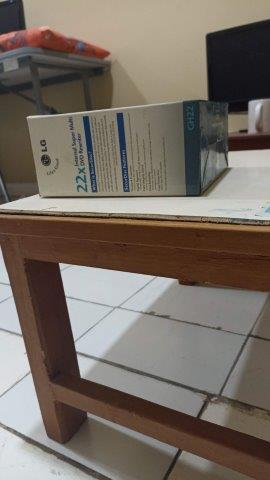kardus: (26, 100, 228, 198)
